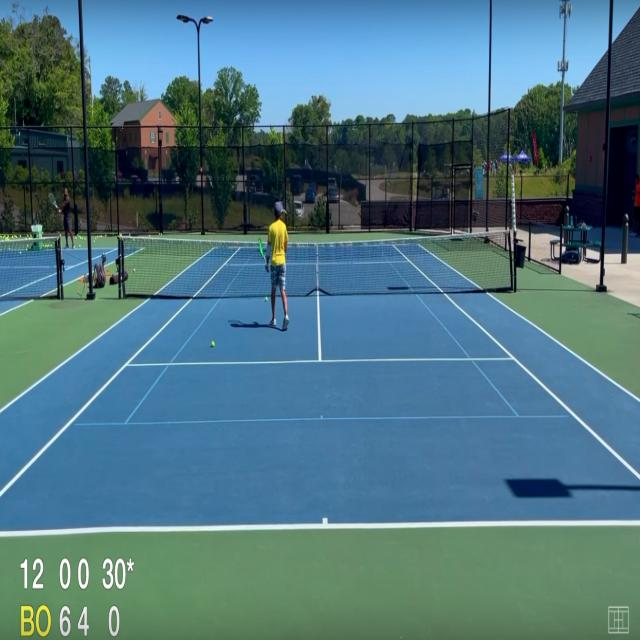ball: (211, 340, 215, 349), (265, 295, 268, 302), (132, 268, 136, 273), (119, 233, 122, 237), (99, 234, 101, 239), (19, 235, 22, 238), (79, 244, 81, 248), (93, 239, 95, 243), (96, 234, 98, 238), (100, 234, 102, 238), (26, 248, 28, 252), (75, 237, 77, 240), (77, 234, 79, 237), (81, 237, 83, 240), (95, 237, 97, 240), (105, 235, 107, 238), (48, 245, 50, 248), (44, 245, 46, 248), (19, 252, 22, 254), (30, 234, 32, 237), (26, 235, 28, 238), (15, 236, 18, 238), (14, 235, 16, 238), (84, 237, 85, 241), (46, 245, 48, 247), (27, 244, 28, 248), (30, 237, 32, 239), (25, 238, 27, 240), (12, 237, 14, 239), (79, 235, 80, 238), (80, 237, 81, 240), (51, 244, 52, 247), (29, 238, 30, 241), (12, 236, 13, 238)
